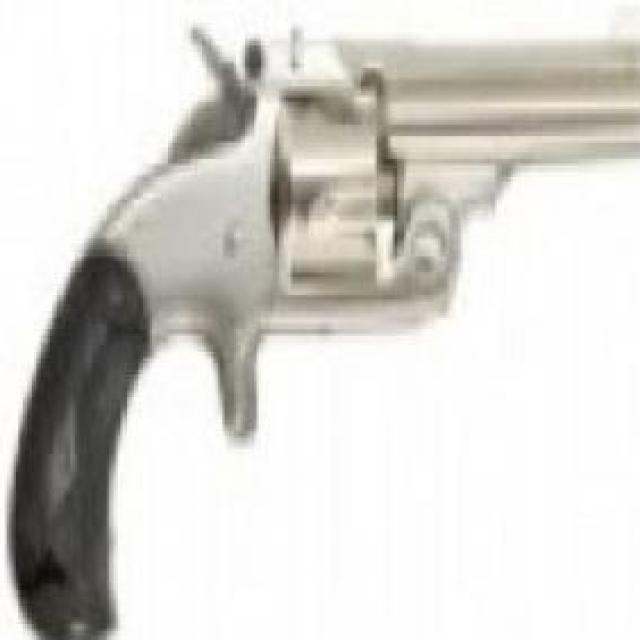pistol: (20, 18, 640, 640)
